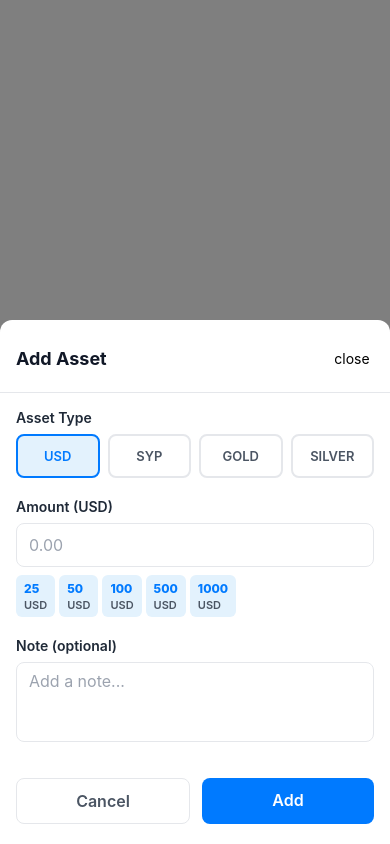
AssetFormModal › Add Mode › should offer gold coin presets
Click the button with aria-label "Select GOLD" at (241,456), box [199, 434, 282, 478]
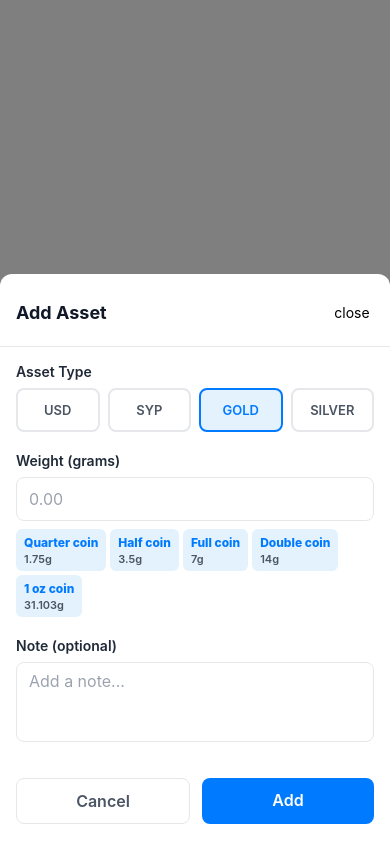
Click the button with aria-label "Use Full coin preset, 7 grams" at (216,550), box [183, 529, 248, 571]
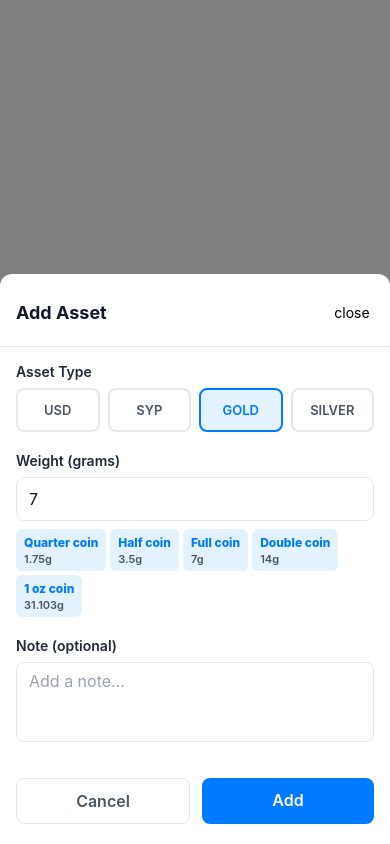
Expected: the field named "Weight (grams)" holds "7", [16, 477, 374, 521]
